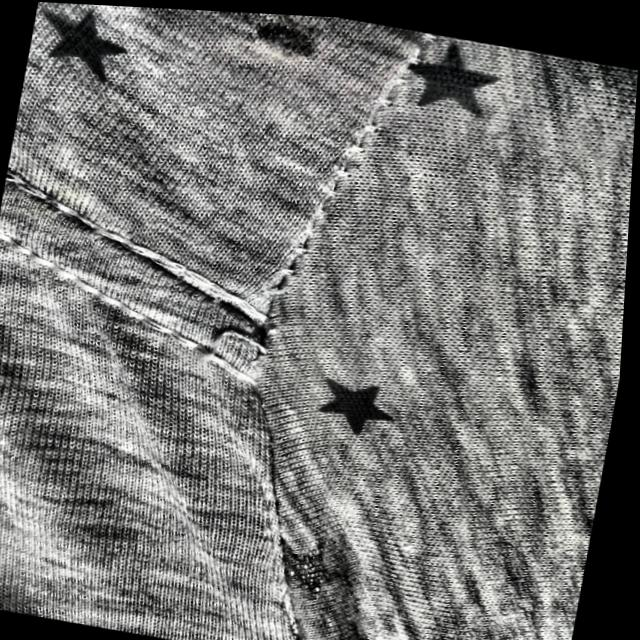Stitch: (169, 310, 287, 391)
